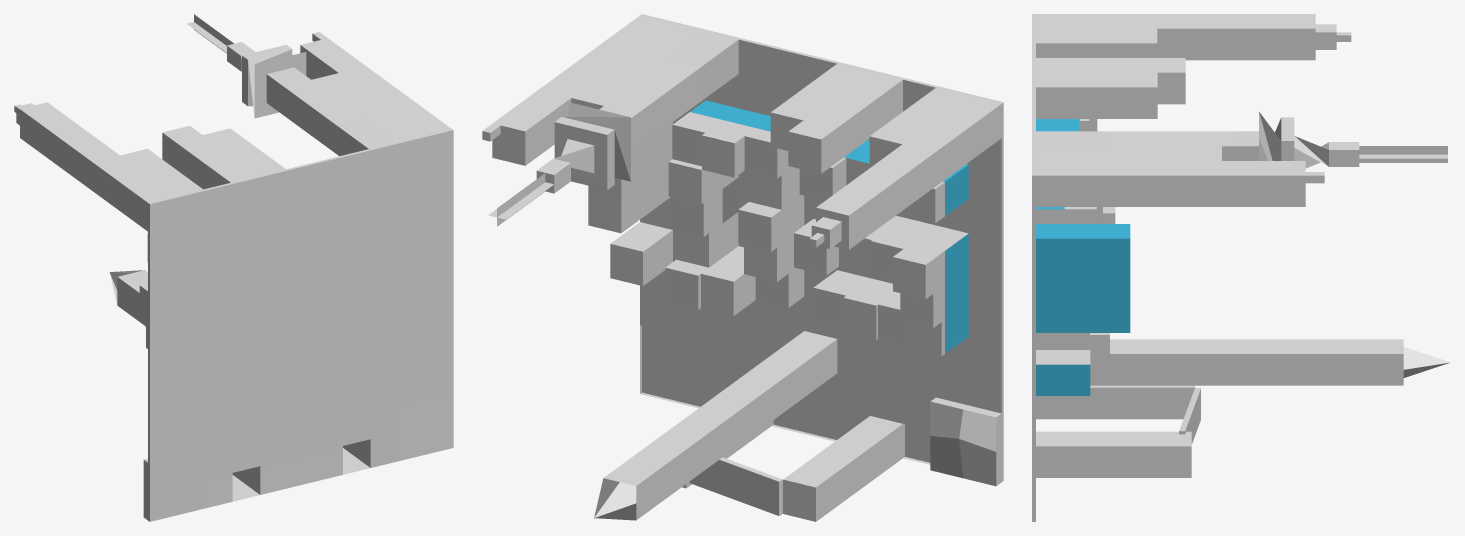
File: city.fbx
3 renders of one model, left to right at view 1: azimuth 30°, elevation 25°; view 2: azimuth 150°, elevation 25°; view 3: azimuth 270°, elevation 25°, orthographic. The views are drawn at different scales.
Parts seen in each view (by area): view 1: Cube; view 2: Cube; view 3: Cube.
Boxes of the visible parts, box(x1,y1,x2,y2) form: Cube: box(14, 14, 453, 521); Cube: box(482, 14, 1003, 521); Cube: box(1032, 14, 1450, 521).
Bounding box in the file's own units: 20000 × 20793 × 21920.
